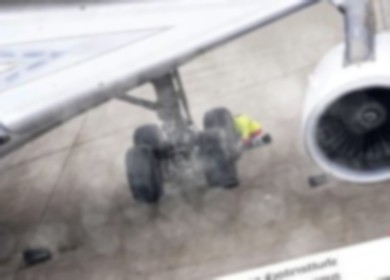chock: (22, 244, 59, 266), (218, 175, 244, 191), (308, 172, 334, 188)
wheel: (195, 121, 242, 191), (120, 139, 168, 206), (201, 104, 244, 167), (132, 120, 169, 163)
